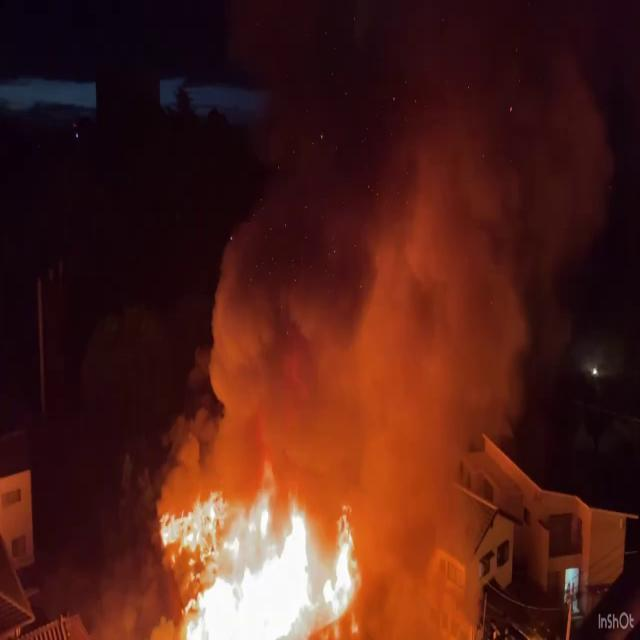Fire: (143, 459, 380, 639)
Smoke: (181, 5, 623, 446)
